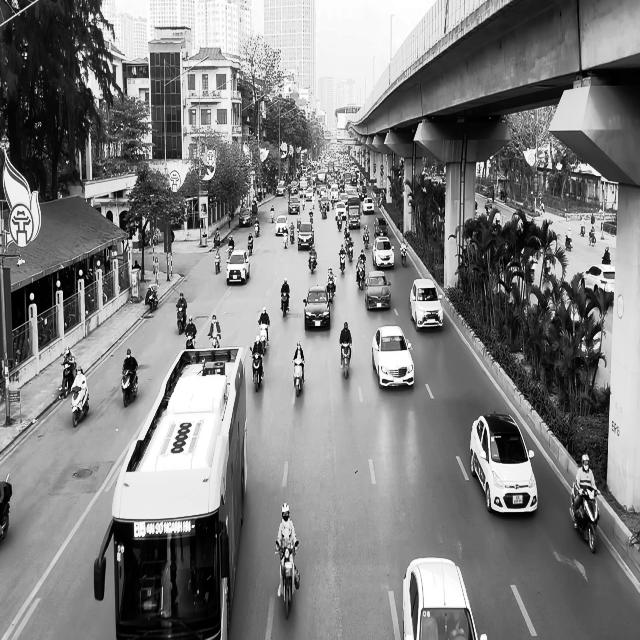bus: (93, 346, 248, 639)
car: (469, 412, 538, 514), (401, 556, 479, 640), (372, 324, 414, 388), (409, 277, 444, 331), (577, 264, 615, 302), (302, 285, 330, 330), (365, 271, 391, 310), (226, 249, 250, 284), (372, 236, 394, 268), (374, 217, 388, 237), (238, 207, 252, 227), (275, 215, 288, 235)
motorbike: (569, 481, 600, 553), (275, 540, 300, 619), (0, 474, 12, 540), (71, 384, 89, 427), (121, 365, 138, 407), (249, 347, 264, 392), (58, 362, 76, 399), (292, 358, 305, 397), (340, 342, 351, 378), (356, 261, 366, 290), (258, 324, 268, 353), (176, 306, 186, 334), (280, 292, 290, 317), (326, 278, 336, 302), (184, 328, 196, 348), (308, 250, 317, 274), (400, 244, 407, 266), (214, 253, 221, 274), (588, 228, 596, 245), (248, 238, 254, 256)
